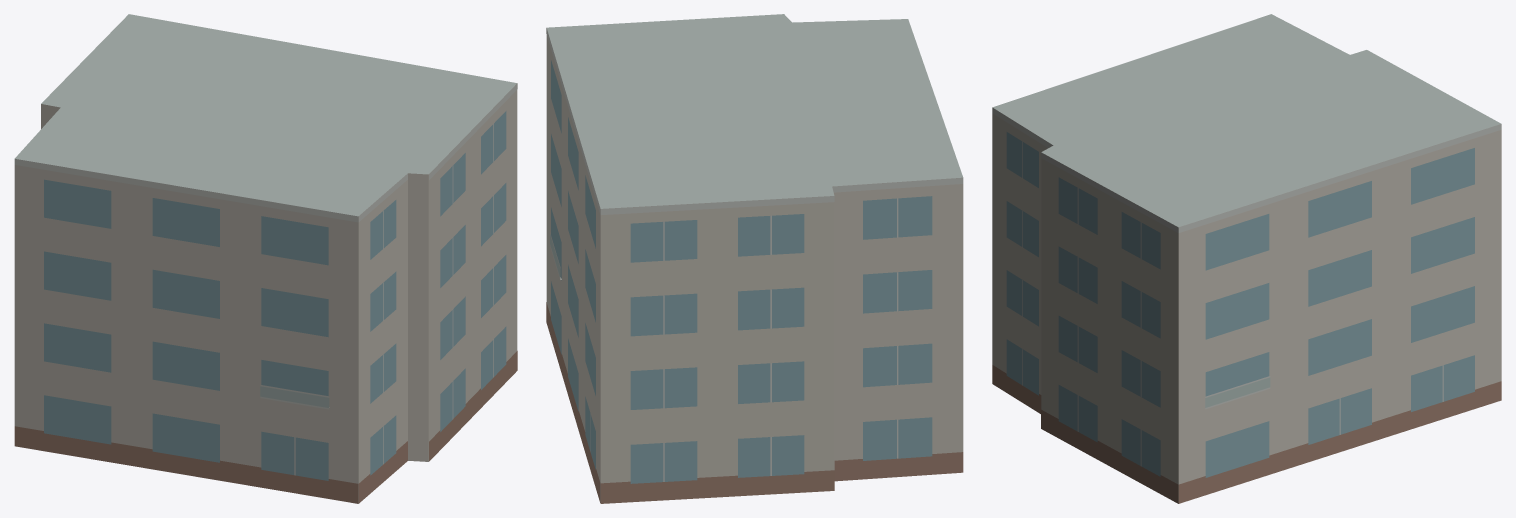
Rendered from survey-upis-32694065.glb.
The picture shows the model from 3 angles, left to right: view 1: azimuth 30°, elevation 25°; view 2: azimuth 150°, elevation 25°; view 3: azimuth 270°, elevation 25°; orthographic projection. The views are drawn at different scales.
Visible parts, largest first — view 1: survey-upis-32694065.tmp; view 2: survey-upis-32694065.tmp; view 3: survey-upis-32694065.tmp.
Boxes of the visible parts, box(x1,y1,x2,y2) form: survey-upis-32694065.tmp: box(14, 14, 517, 503); survey-upis-32694065.tmp: box(546, 14, 963, 503); survey-upis-32694065.tmp: box(992, 14, 1501, 503).
Bounding box in the file's own units: 19.04 × 11.5 × 19.2.
